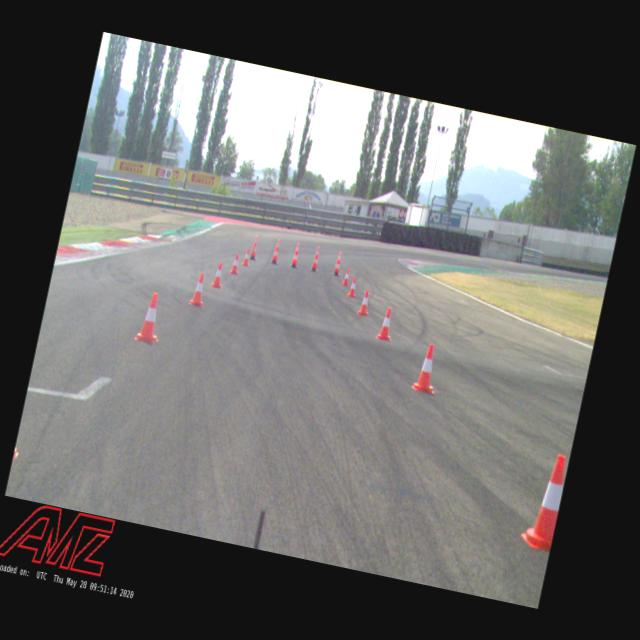large_orange_cone: (330, 250, 344, 277), (289, 242, 302, 268), (309, 246, 322, 272), (248, 233, 260, 260), (270, 238, 282, 264)
orange_cone: (518, 449, 570, 552), (133, 290, 168, 344), (411, 342, 444, 394), (375, 306, 397, 342), (188, 271, 209, 306), (210, 260, 226, 288), (357, 288, 372, 316), (228, 252, 242, 275), (346, 276, 359, 298), (241, 248, 252, 267), (341, 268, 352, 286)
